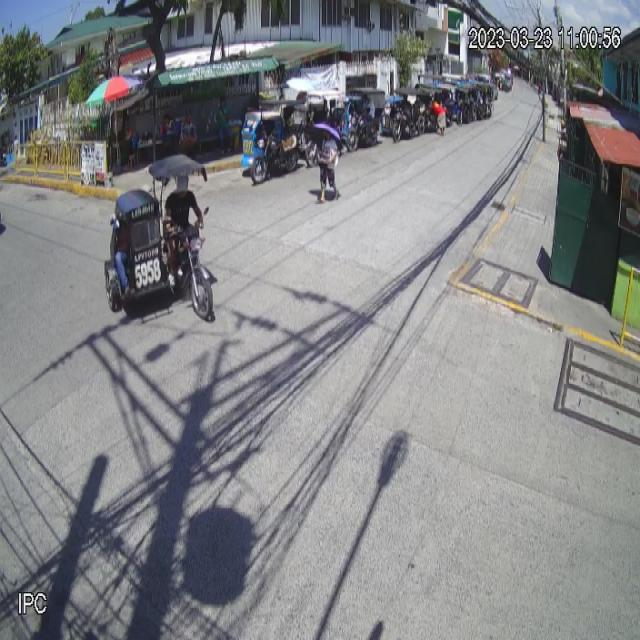Tricycle: (104, 154, 214, 321)
